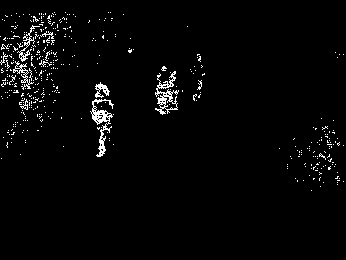person: (89, 80, 116, 159), (190, 51, 205, 102)
